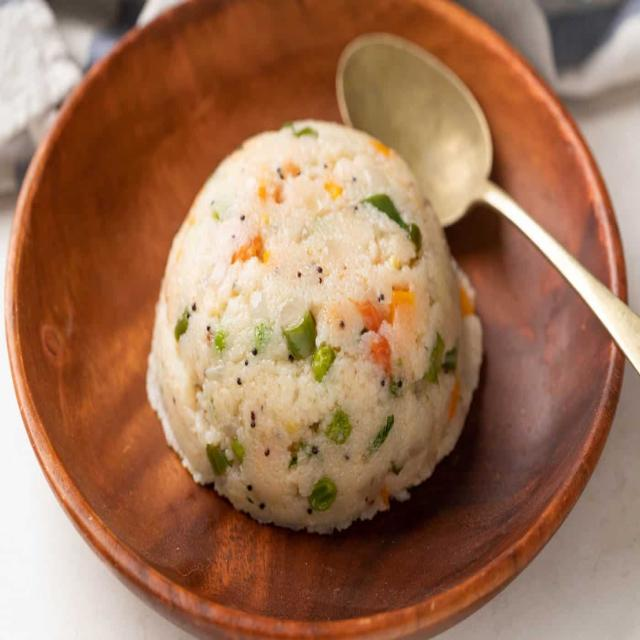UPMA: (146, 122, 486, 536)
